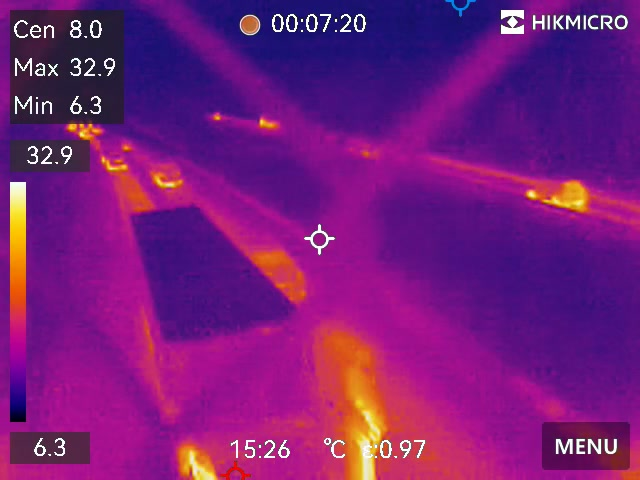heavyTruck: (126, 210, 392, 480)
vehicle: (528, 178, 588, 211), (151, 160, 184, 190)
